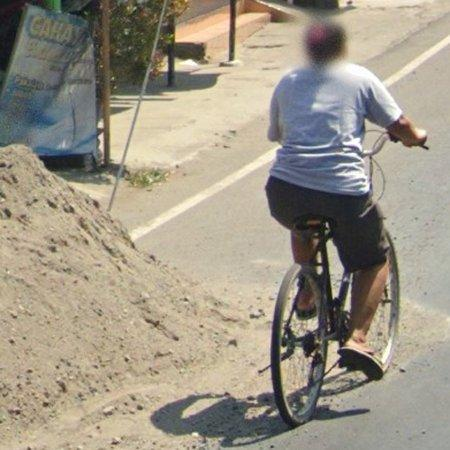bicycles: (271, 219, 353, 428), (370, 231, 401, 368)
